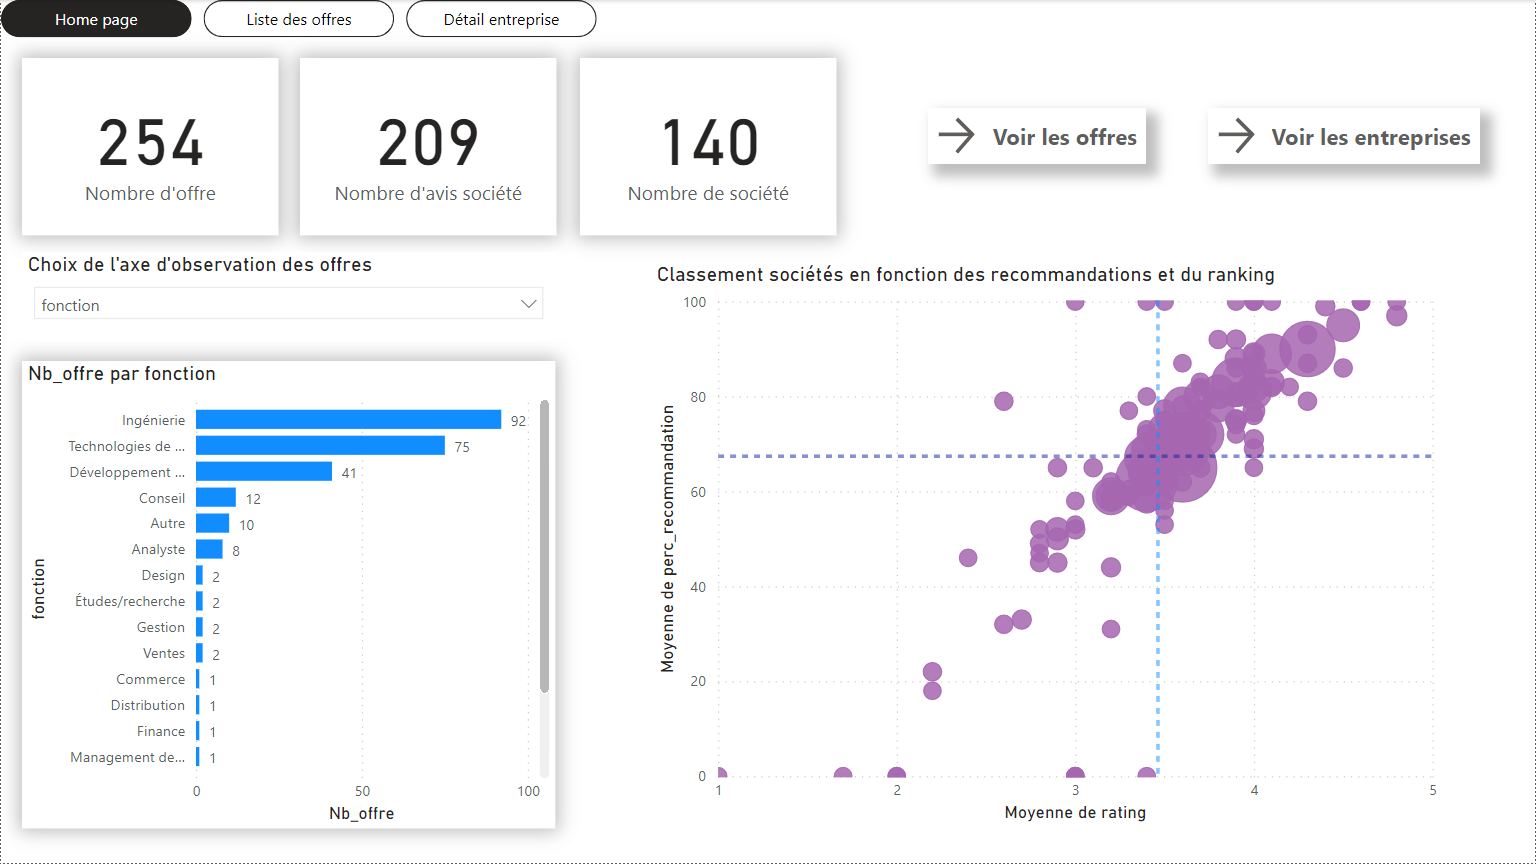

This screenshot's page, from the dashboard's own definition file:
{"tool":"powerbi","page":{"name":"Home page","canvas":[1280,720],"ordinal":0},"visuals":[{"type":"barChart","fields":{"Y":["avis.Nb_offre"],"Category":["emploie.fonction"]},"box":[17.5,301.2,444.5,389.9],"z":0},{"type":"pageNavigator","box":[0,0,497.4,31],"z":1000},{"type":"card","fields":{"Values":["CountNonNull(emploie.nom_offre)"]},"box":[17.7,48.8,213.7,148.1],"z":2000},{"type":"card","fields":{"Values":["CountNonNull(avis.nombre_avis)"]},"box":[249.2,48.8,213.7,148.1],"z":3000},{"type":"card","fields":{"Values":["CountNonNull(societe.company_name)"]},"box":[483.3,48.8,213.7,148.1],"z":4000},{"type":"slicer","title":"Choix de l''axe d''observation des offres","fields":{"Values":["Param_axe_offre.Param_axe_offre"]},"box":[17.5,210.1,445.5,74.9],"z":5000},{"type":"scatterChart","title":"Classement sociétés en fonction des recommandations et du ranking ","fields":{"X":["Avg(avis.rating)"],"Y":["Avg(avis.perc_recommandation)"],"Size":["Sum(avis.nombre_avis)"],"Category":["avis.company_name"]},"box":[542,219,661,472],"z":6000},{"type":"actionButton","box":[773.3,90.5,181.9,46.7],"z":7000},{"type":"actionButton","box":[1006.7,90,226.7,46.7],"z":8000}]}

Visuals, with their boxes in screenshot pixels (x1, y1, x2, y2), scaled from the page's 1280x720 canvas onto the 1536x864 screenshot:
barChart - avis.Nb_offre x emploie.fonction: (x1=21, y1=361, x2=554, y2=829)
pageNavigator: (x1=0, y1=0, x2=597, y2=37)
card - CountNonNull(emploie.nom_offre): (x1=21, y1=59, x2=278, y2=236)
card - CountNonNull(avis.nombre_avis): (x1=299, y1=59, x2=555, y2=236)
card - CountNonNull(societe.company_name): (x1=580, y1=59, x2=836, y2=236)
"Choix de l''axe d''observation des offres" slicer: (x1=21, y1=252, x2=556, y2=342)
"Classement sociétés en fonction des recommandations et du ranking " scatterChart: (x1=650, y1=263, x2=1444, y2=829)
actionButton: (x1=928, y1=109, x2=1146, y2=165)
actionButton: (x1=1208, y1=108, x2=1480, y2=164)
